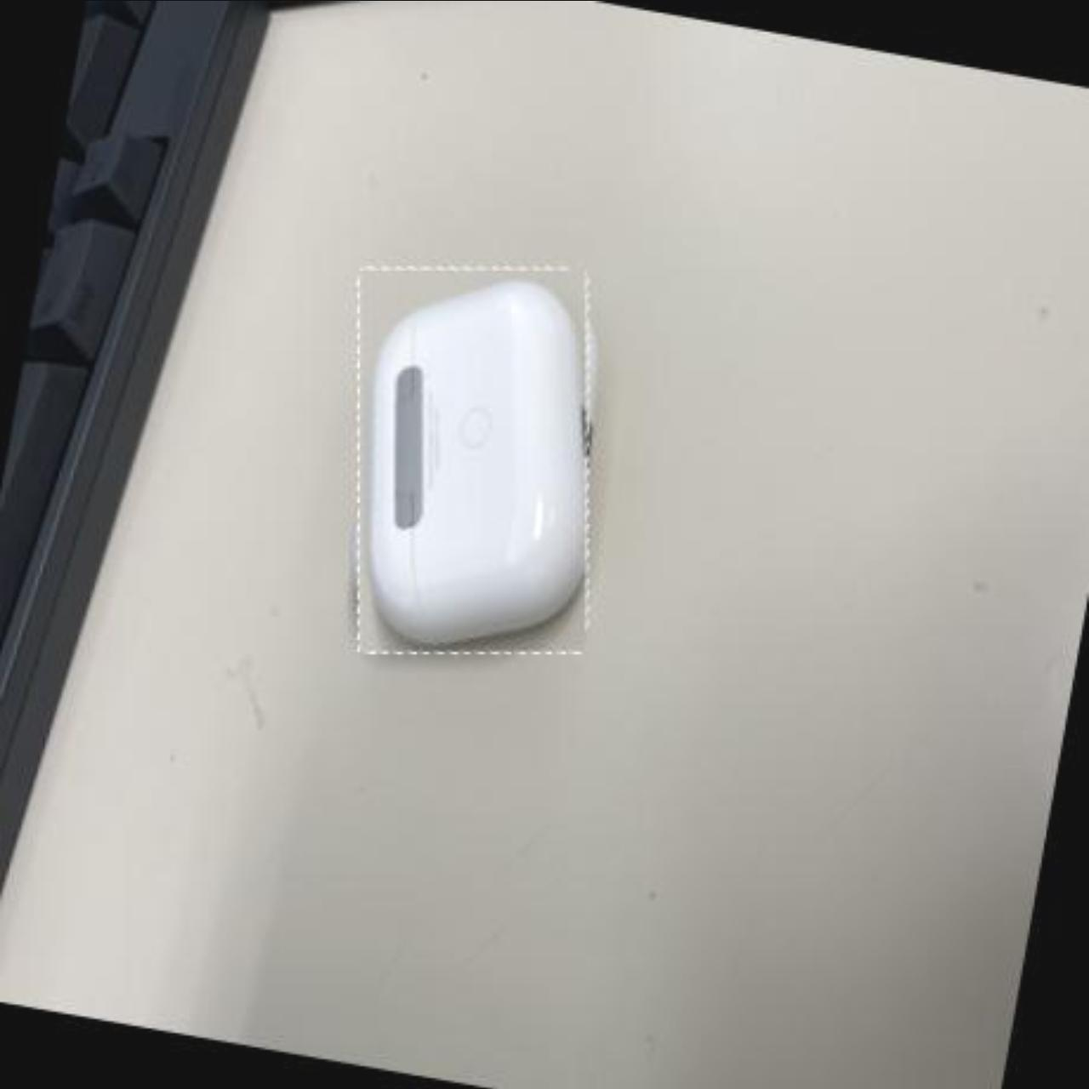AirPods: (312, 239, 636, 676)
